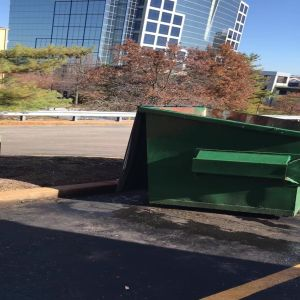Dumpster: (115, 103, 300, 217)
